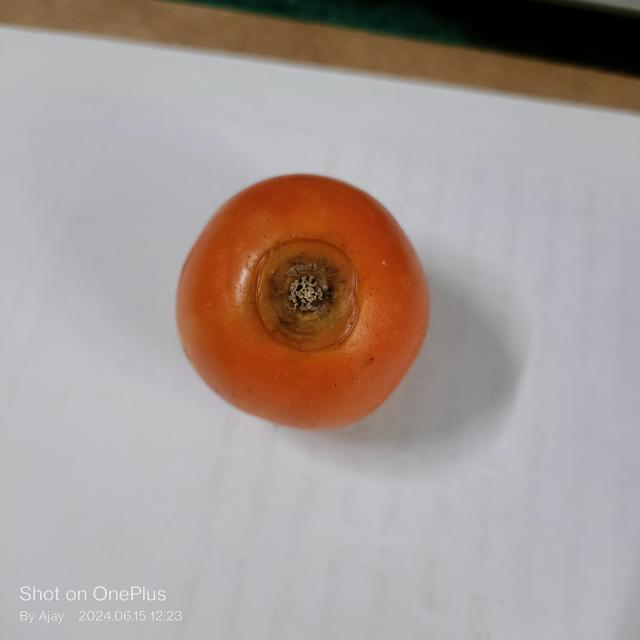Anthrocnose: (244, 239, 360, 357)
